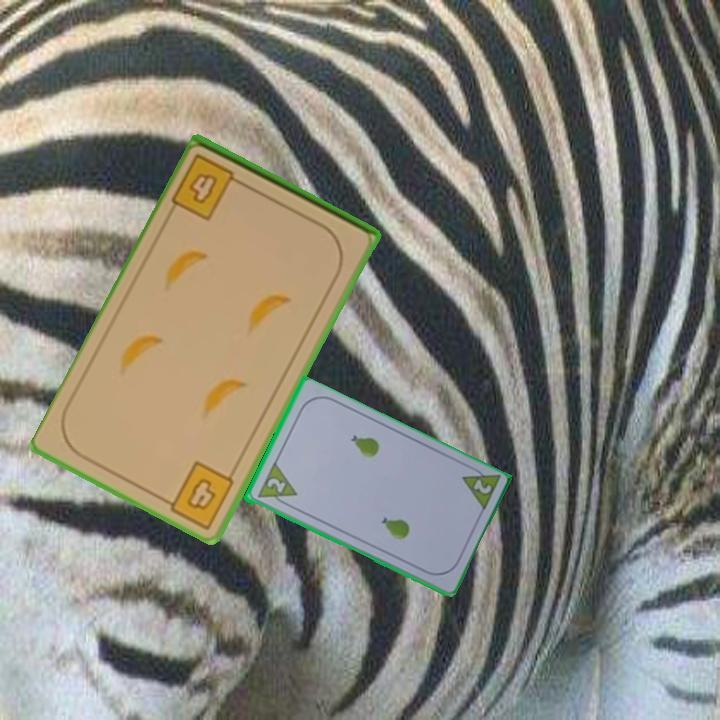2p: (253, 460, 299, 511), (469, 476, 494, 497)
4b: (168, 150, 249, 224), (158, 457, 238, 531)
